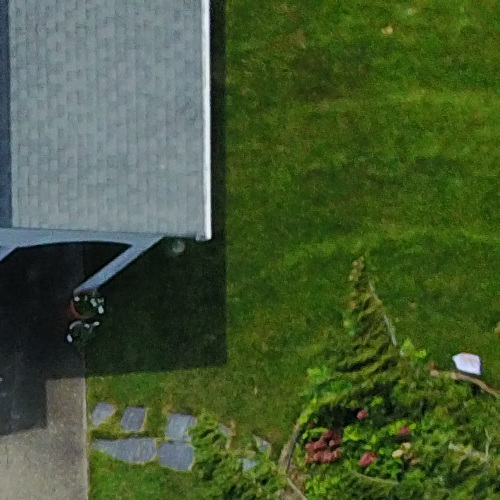flower pot: (60, 314, 107, 350), (65, 289, 107, 322)
